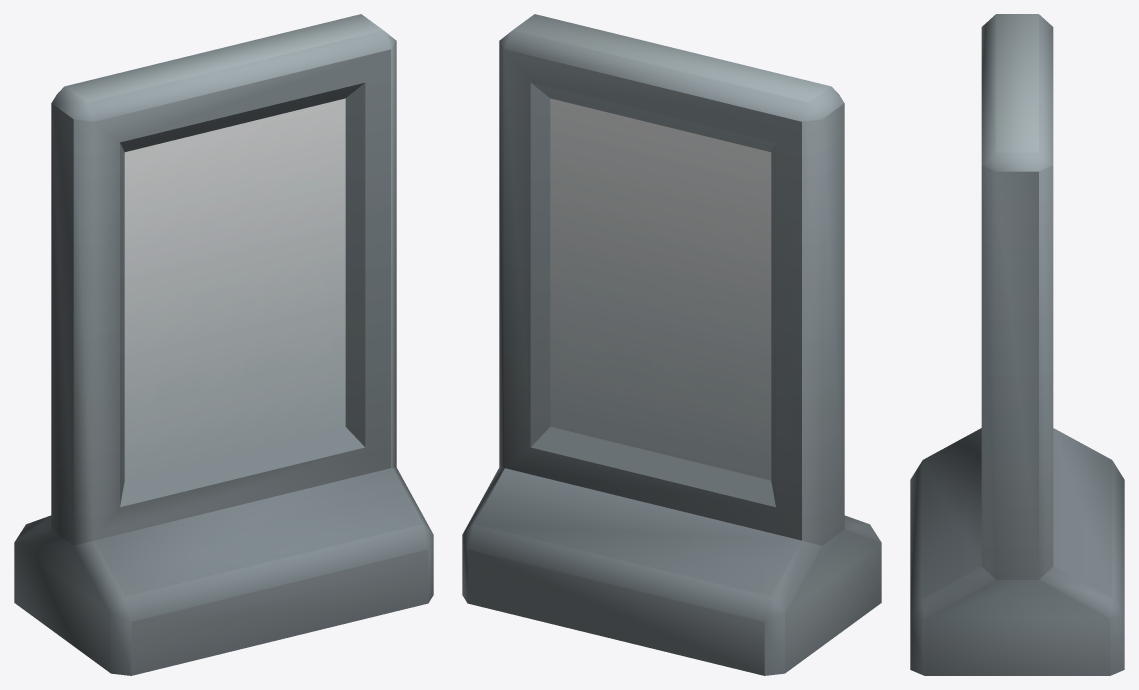
The model's file is cafe-menu.glb.
3 renders of one model, left to right at view 1: azimuth 30°, elevation 25°; view 2: azimuth 150°, elevation 25°; view 3: azimuth 270°, elevation 25°, orthographic. The views are drawn at different scales.
Visible parts, largest first — view 1: menu; view 2: menu; view 3: menu.
Boxes of the visible parts, x1,y1,x2,y2 form: menu: [14, 14, 433, 675]; menu: [462, 14, 881, 675]; menu: [910, 14, 1124, 675].
Bounding box in the file's own units: 16382 × 26214 × 9831.
Materials: 1 (1 with a texture image).
